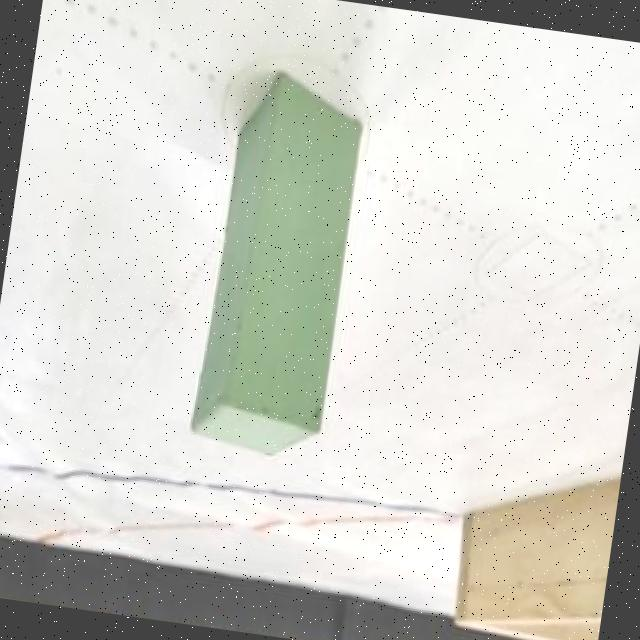greenbox: (182, 64, 374, 469)
